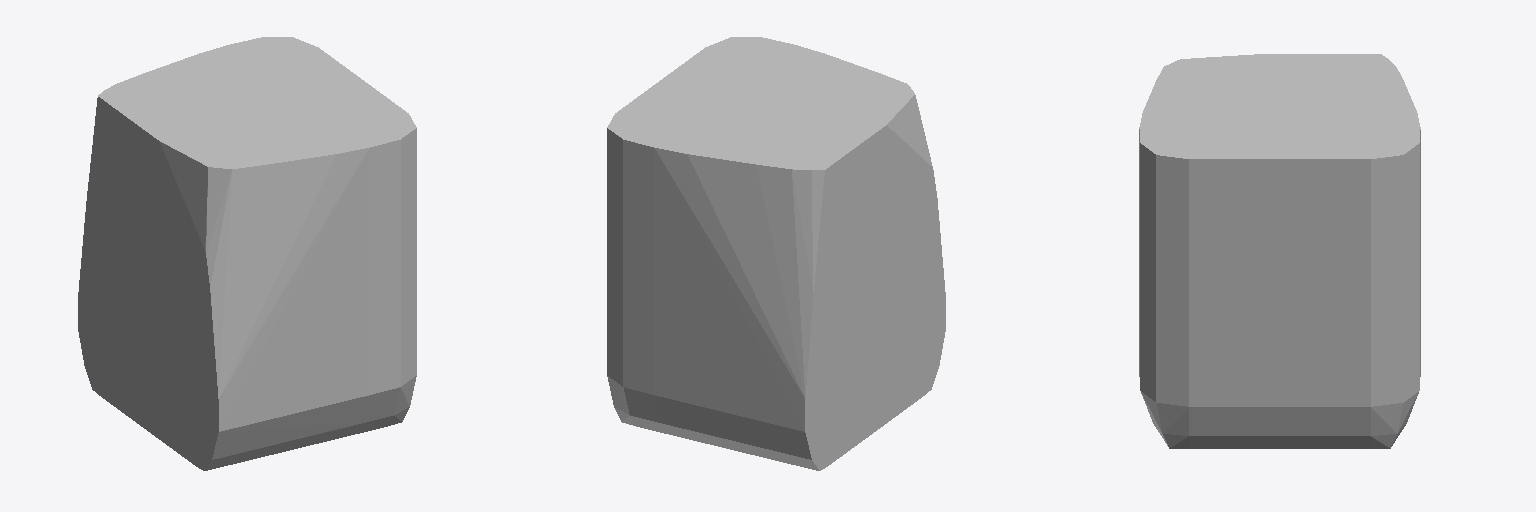
Rendered from Window_Slider_48x36_collision_14.obj.
3 renders of one model, left to right at view 1: azimuth 30°, elevation 25°; view 2: azimuth 150°, elevation 25°; view 3: azimuth 270°, elevation 25°, orthographic.
Bounding box in the file's own units: 0.0837 × 0.1108 × 0.0947.